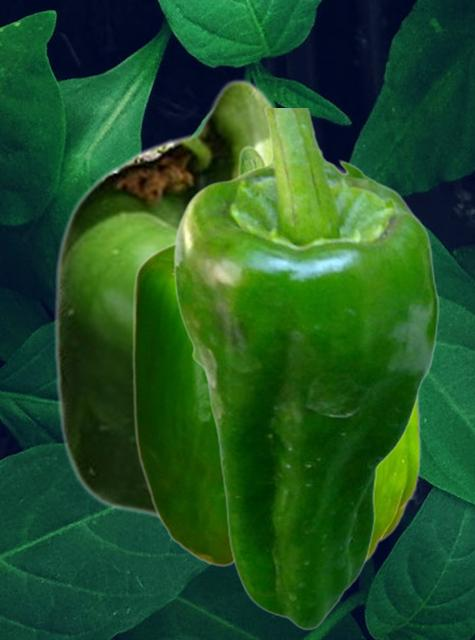bell_pepper: (172, 108, 439, 630), (52, 78, 344, 522), (131, 145, 420, 569)
